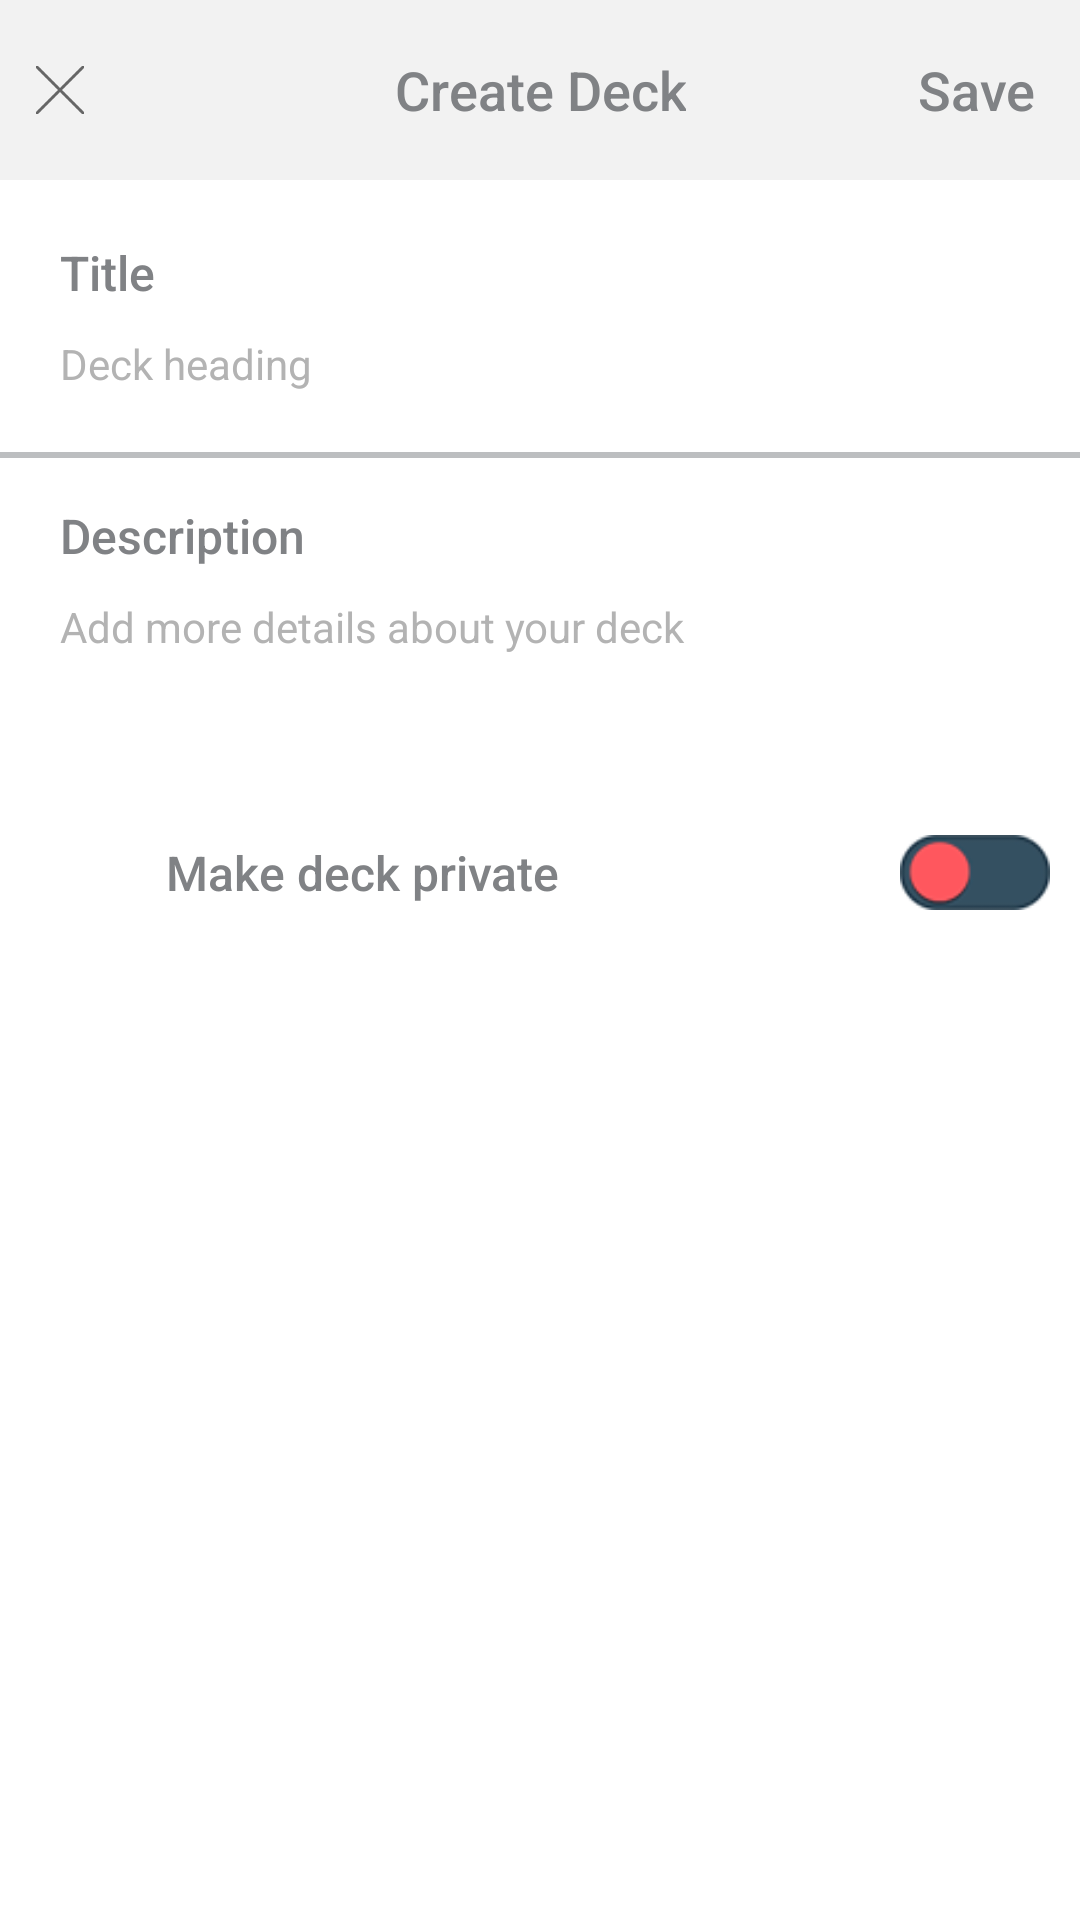

Locate icon controls on the screen. Image size 1080 x 1920, boxes as (x1, y1, x2, y2).
cancel: (36, 66, 84, 114)
